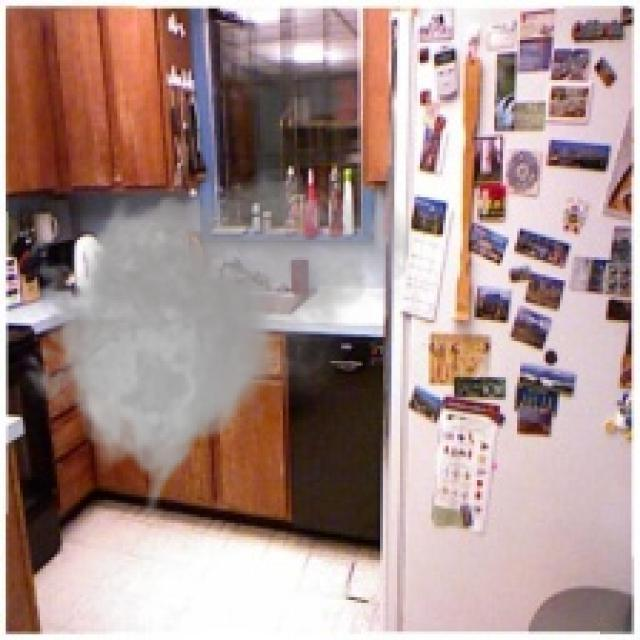Smoke: (11, 157, 420, 529)
